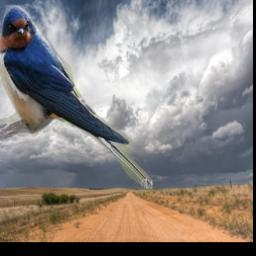Swallow: (0, 5, 153, 190)
